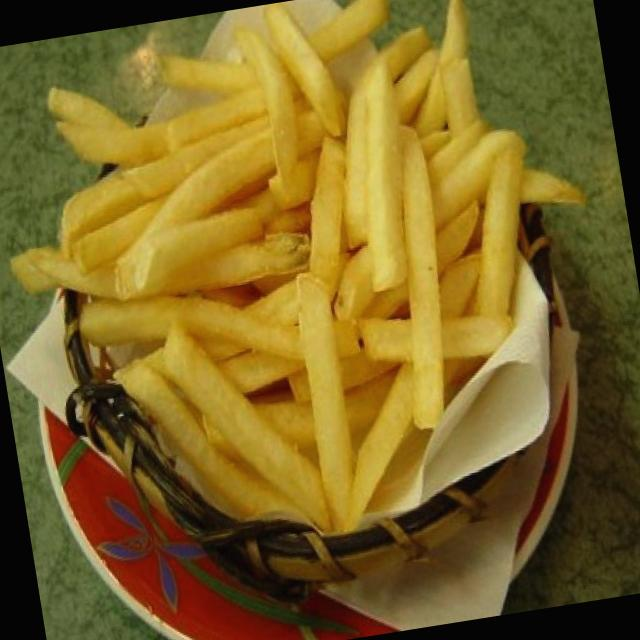French Fries: (38, 0, 575, 542)
